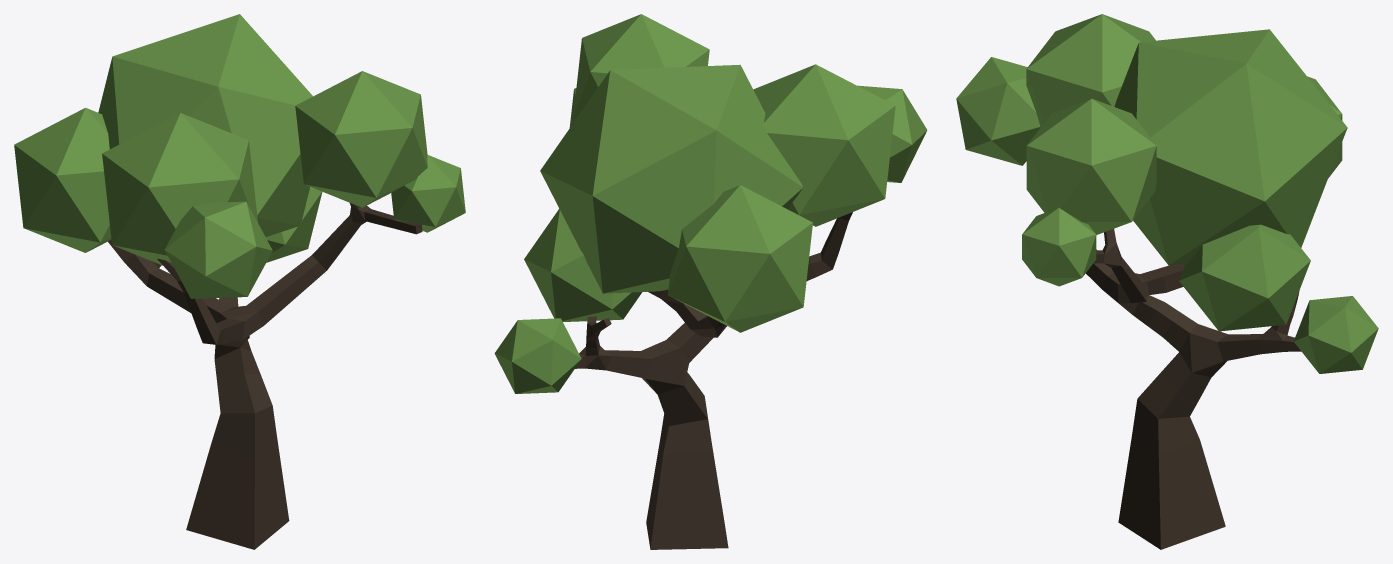
Rendered from tree.fbx.
3 views of the same model, side by side, from view 1: azimuth 30°, elevation 25°; view 2: azimuth 150°, elevation 25°; view 3: azimuth 270°, elevation 25° (orthographic).
Visible parts, largest first — view 1: Tree; view 2: Tree; view 3: Tree.
Part boxes in pixels (x1,y1,x2,y2): Tree: (14, 14, 465, 549); Tree: (494, 14, 927, 549); Tree: (956, 14, 1378, 549).
Size of the model in its own units: 384 by 420 by 529.
